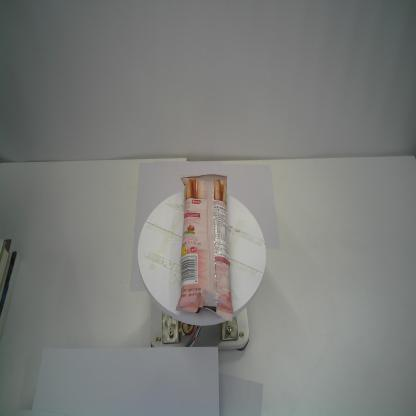Dessert: (174, 173, 236, 324)
